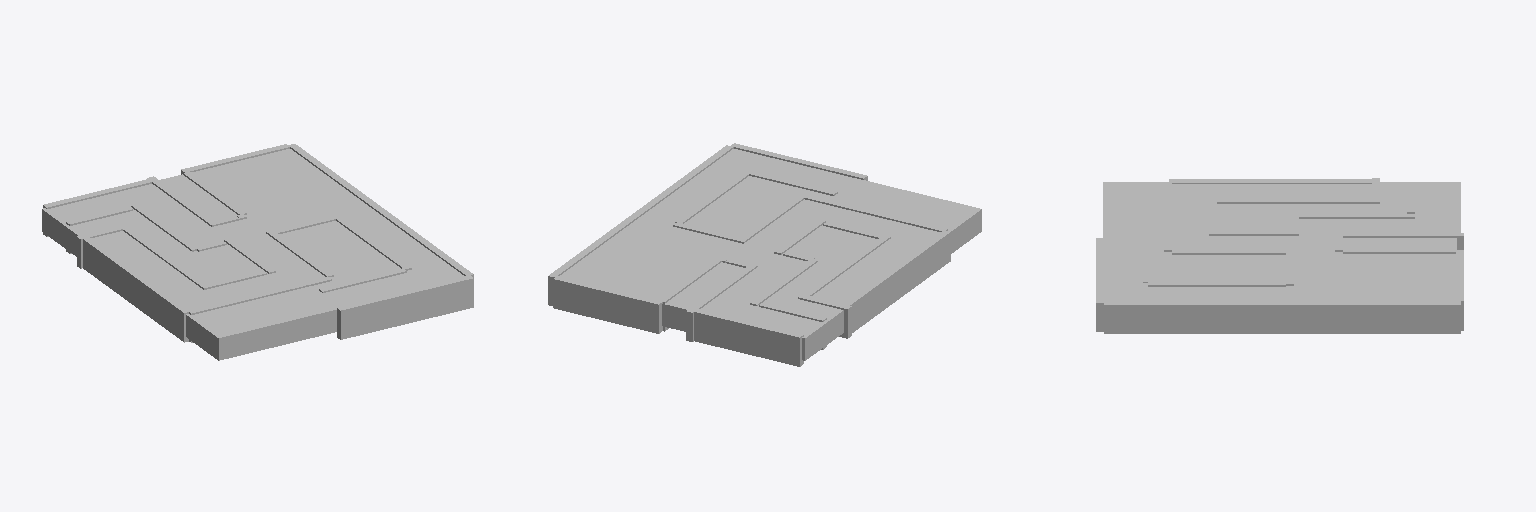
The model's file is Room2Hitbox1.obj.
3 renders of one model, left to right at view 1: azimuth 30°, elevation 25°; view 2: azimuth 150°, elevation 25°; view 3: azimuth 270°, elevation 25°, orthographic.
Parts seen in each view (by area): view 1: Big_Cube_Cube.001; view 2: Big_Cube_Cube.001; view 3: Big_Cube_Cube.001.
Part boxes in pixels (bbox=[...]): Big_Cube_Cube.001: bbox=[42, 149, 464, 360]; Big_Cube_Cube.001: bbox=[559, 149, 981, 360]; Big_Cube_Cube.001: bbox=[1103, 182, 1456, 300].
Bounding box in the file's own units: 73.68 × 8.02 × 90.89.